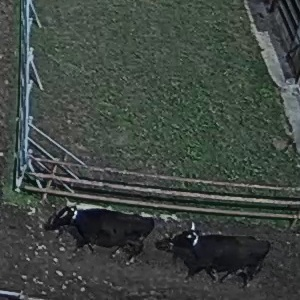cow: (39, 195, 159, 257), (163, 218, 270, 287)
